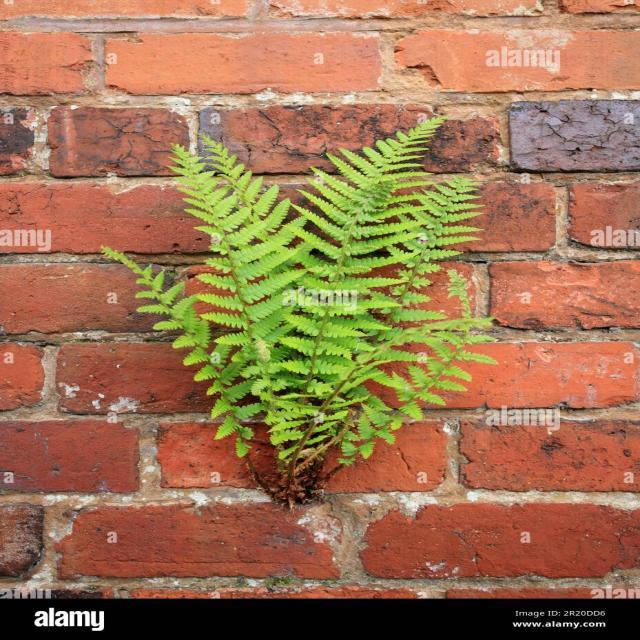Crack: (1, 2, 638, 600)
